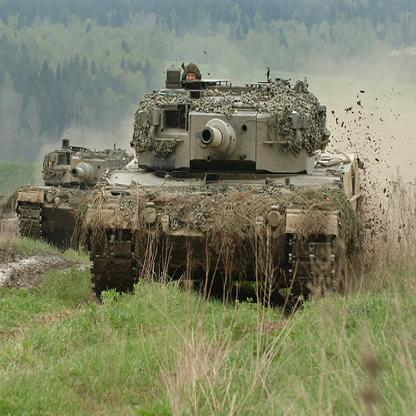Tank: (94, 73, 365, 316), (9, 132, 132, 253)
